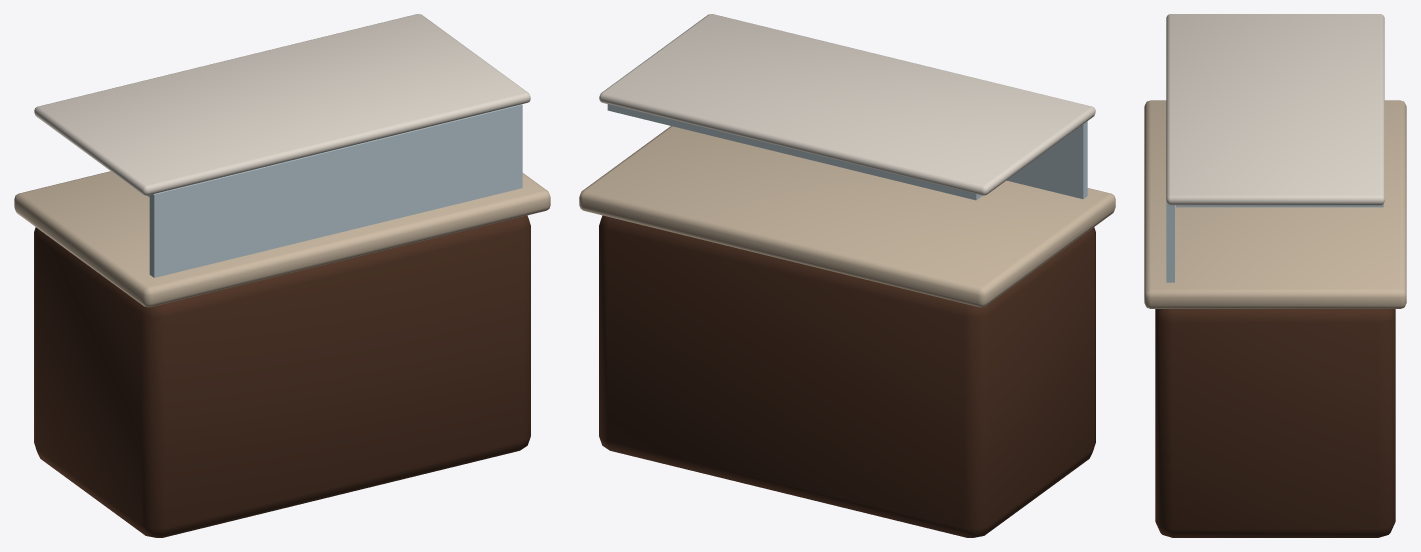
The model's file is f_pastrycase.glb.
3 views of the same model, side by side, from view 1: azimuth 30°, elevation 25°; view 2: azimuth 150°, elevation 25°; view 3: azimuth 270°, elevation 25° (orthographic). The views are drawn at different scales.
Visible parts, largest first — view 1: f_pastrycase, Glass_f_pastrycase; view 2: f_pastrycase, Glass_f_pastrycase; view 3: f_pastrycase, Glass_f_pastrycase.
Boxes of the visible parts, x1,y1,x2,y2 form: f_pastrycase: (14, 14, 550, 537); Glass_f_pastrycase: (147, 104, 522, 277); f_pastrycase: (579, 14, 1115, 537); Glass_f_pastrycase: (607, 104, 1087, 200); f_pastrycase: (1144, 14, 1406, 537); Glass_f_pastrycase: (1166, 202, 1383, 282).
Bounding box in the file's own units: 2.1 × 1.75 × 1.2.
